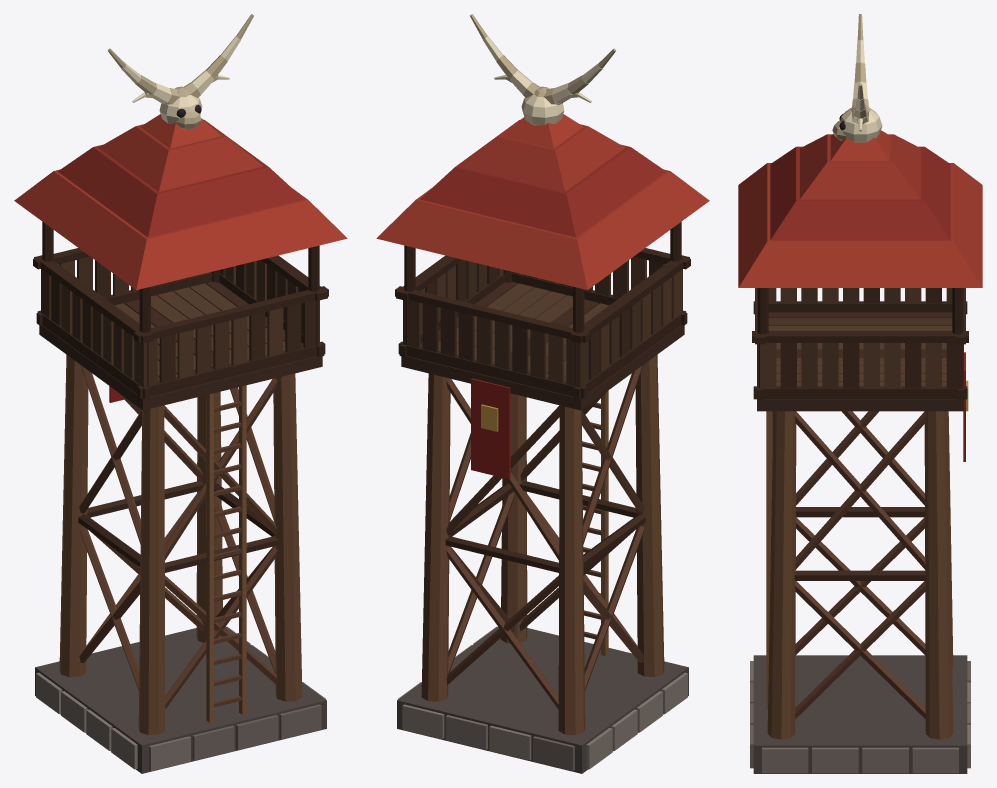
The model's file is watch-D_FLfKo1.glb.
3 views of the same model, side by side, from view 1: azimuth 30°, elevation 25°; view 2: azimuth 150°, elevation 25°; view 3: azimuth 270°, elevation 25° (orthographic).
Parts seen in each view (by area): view 1: watch; view 2: watch; view 3: watch.
Part boxes in pixels (x1,y1,x2,y2): watch: (14, 14, 347, 773); watch: (376, 14, 709, 773); watch: (738, 14, 982, 773).
Bounding box in the file's own units: 3.89 × 11.96 × 3.89.
